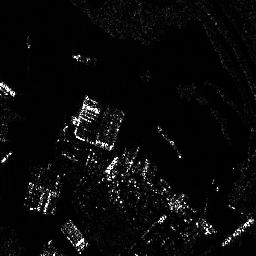ship: (221, 216, 253, 246), (157, 125, 182, 159)
